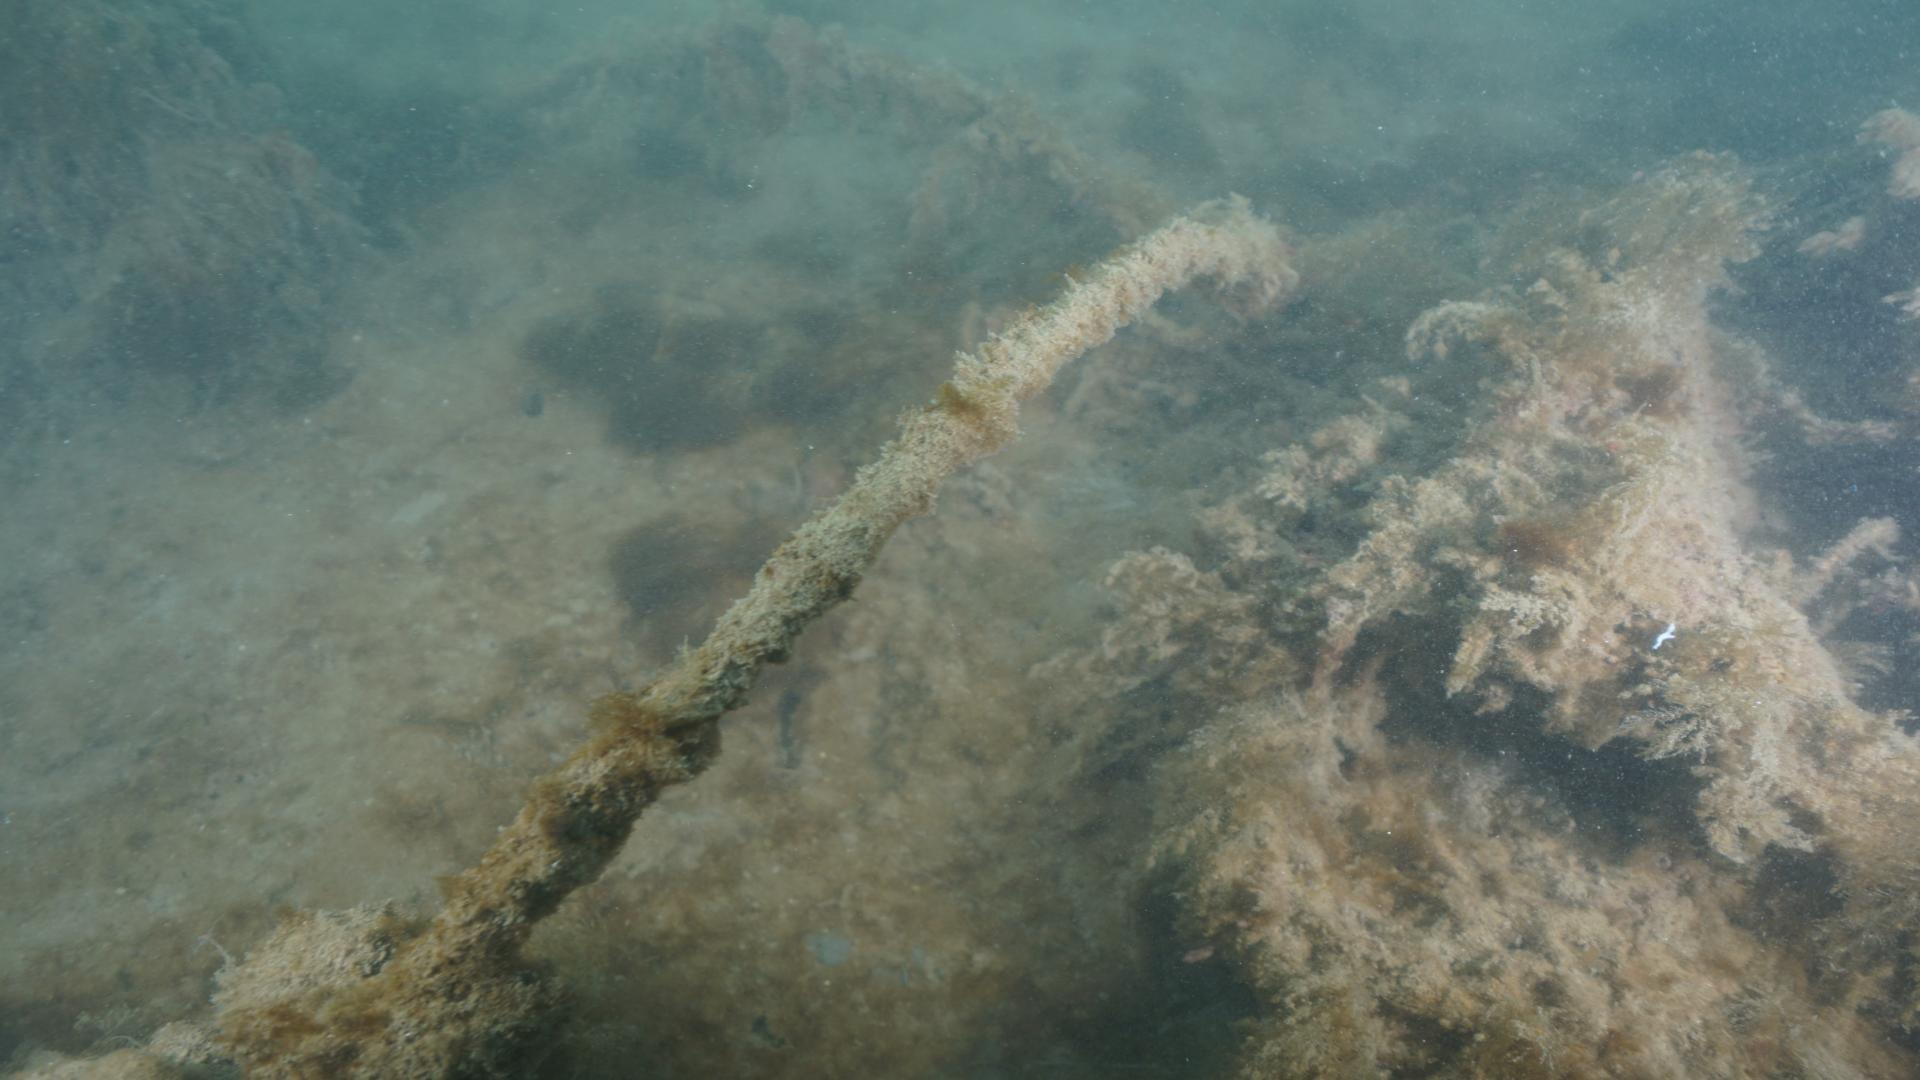rope: (150, 18, 1302, 1080)
